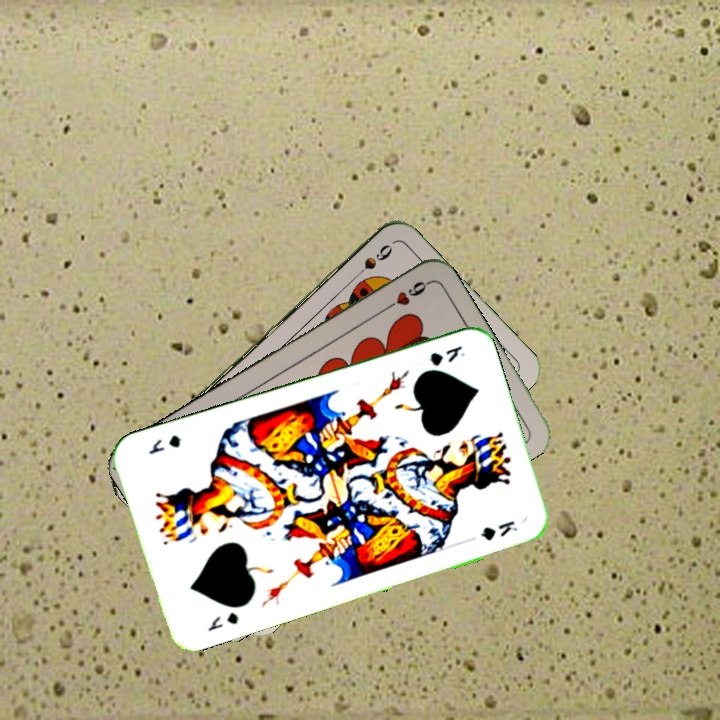GK: (424, 341, 467, 369), (203, 608, 241, 634)
H9: (378, 277, 432, 315)
S9: (347, 240, 394, 284)
